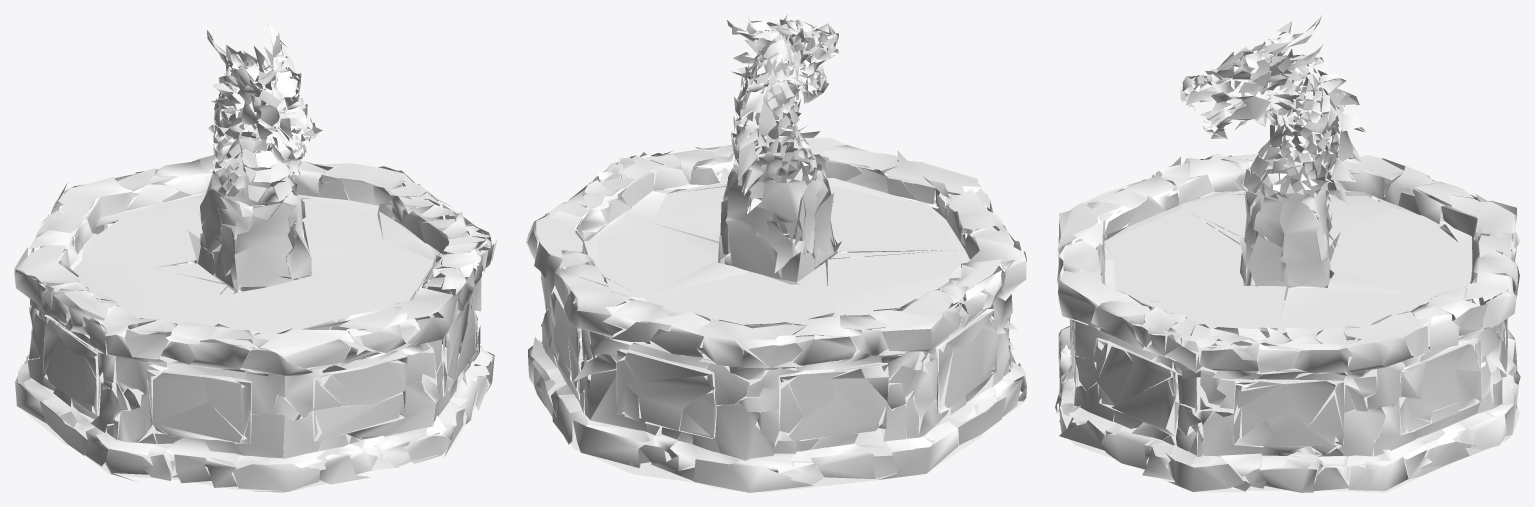
File: fountain_dragon_lod2.glb
3 views of the same model, side by side, from view 1: azimuth 30°, elevation 25°; view 2: azimuth 150°, elevation 25°; view 3: azimuth 270°, elevation 25° (orthographic). The views are drawn at different scales.
Parts seen in each view (by area): view 1: fountain_dragon; view 2: fountain_dragon; view 3: fountain_dragon.
Boxes of the visible parts, x1,y1,x2,y2 form: fountain_dragon: [14, 14, 497, 492]; fountain_dragon: [526, 14, 1026, 492]; fountain_dragon: [1055, 15, 1520, 492].
Bounding box in the file's own units: 4.83 × 4.25 × 4.82.
Materials: 1 (1 with a texture image).
